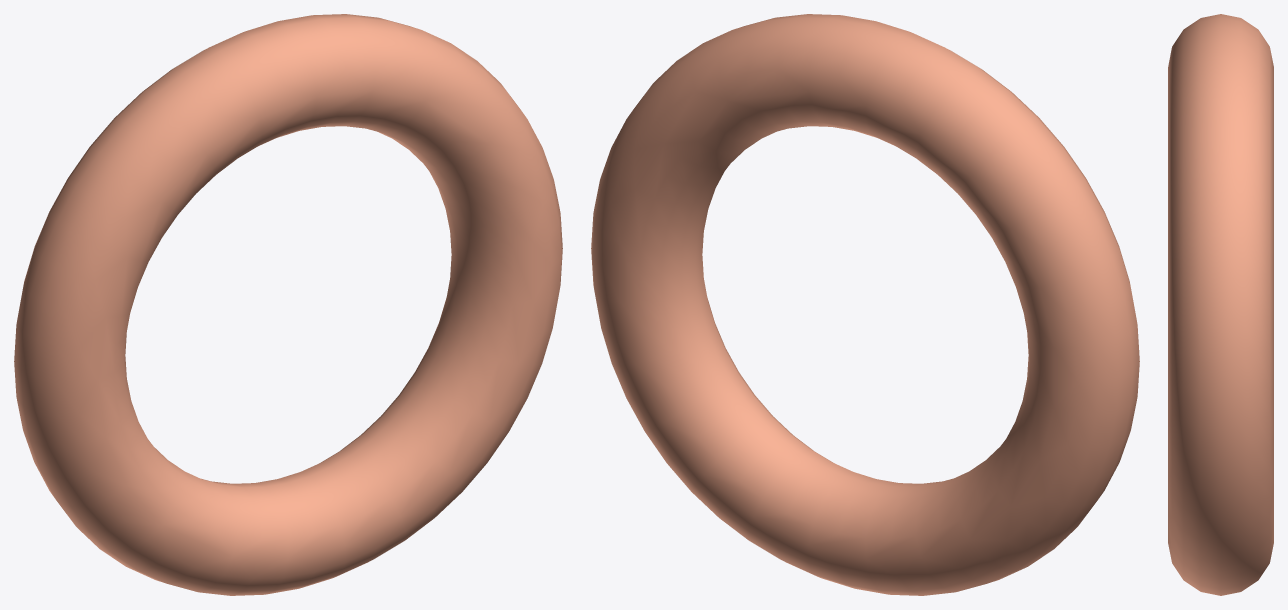
Rendered from engine_ring.glb.
The picture shows the model from 3 angles, left to right: view 1: azimuth 30°, elevation 25°; view 2: azimuth 150°, elevation 25°; view 3: azimuth 270°, elevation 25°; orthographic projection. The views are drawn at different scales.
Parts seen in each view (by area): view 1: Ring; view 2: Ring; view 3: Ring.
Part boxes in pixels (<box>): Ring: <box>14,14,562,595</box>; Ring: <box>591,14,1139,595</box>; Ring: <box>1168,14,1273,595</box>.
Bounding box in the file's own units: 1.76 × 1.76 × 0.32.
